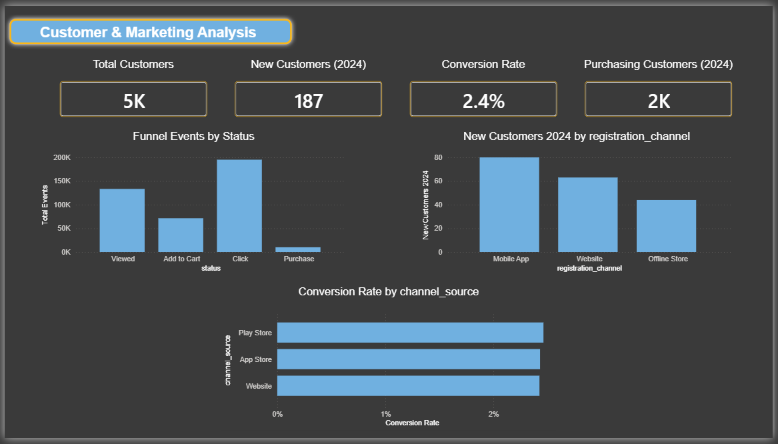

Layout of this report page (visuals, bound fields, positions):
{"tool":"powerbi","page":{"name":"Customer & Marketing Analysis","canvas":[1280,720],"ordinal":2},"visuals":[{"type":"cardVisual","title":"Conversion Rate","fields":{"Data":["fact_funnel.Conversion Rate"]},"box":[673.3,86.1,249,100],"z":0},{"type":"clusteredColumnChart","title":"Funnel Events by Status","fields":{"Category":["dim_status.status"],"Y":["fact_funnel.Total Events"]},"box":[56.7,206.7,516.7,241.7],"z":1000},{"type":"cardVisual","title":"New Customers (2024)","fields":{"Data":["dim_customer.New Customers"]},"box":[381.7,86.1,249,100],"z":2000},{"type":"cardVisual","title":"Total Customers","fields":{"Data":["fact_order.Total Customers"]},"box":[90,86.1,249,100],"z":3000},{"type":"cardVisual","title":"Purchasing Customers (2024)","fields":{"Data":["fact_order.Customers with Purchase"]},"box":[965,86.1,249,100],"z":4000},{"type":"clusteredBarChart","fields":{"Category":["fact_funnel.channel_source"],"Y":["fact_funnel.Conversion Rate"]},"box":[361.7,465,556.7,241.7],"z":5000},{"type":"columnChart","fields":{"Category":["dim_customer.registration_channel"],"Y":["dim_customer.New Customers"]},"box":[691.7,206.7,523.3,241.7],"z":6000},{"type":"shape","box":[0,13.3,486.7,58.3],"z":7000},{"type":"textbox","title":"Customer & Marketing Analysis","box":[31.7,30,415,28.3],"z":8000}]}

Visuals, with their boxes in screenshot pixels (x1, y1, x2, y2), scaled from the page's 1280x720 canvas onto the 778x444 screenshot:
"Conversion Rate" cardVisual: <bbox>409, 53, 561, 115</bbox>
"Funnel Events by Status" clusteredColumnChart: <bbox>34, 127, 349, 277</bbox>
"New Customers (2024)" cardVisual: <bbox>232, 53, 383, 115</bbox>
"Total Customers" cardVisual: <bbox>55, 53, 206, 115</bbox>
"Purchasing Customers (2024)" cardVisual: <bbox>587, 53, 738, 115</bbox>
clusteredBarChart - fact_funnel.channel_source x fact_funnel.Conversion Rate: <bbox>220, 287, 558, 436</bbox>
columnChart - dim_customer.registration_channel x dim_customer.New Customers: <bbox>420, 127, 738, 277</bbox>
shape: <bbox>0, 8, 296, 44</bbox>
"Customer & Marketing Analysis" textbox: <bbox>19, 18, 272, 36</bbox>
